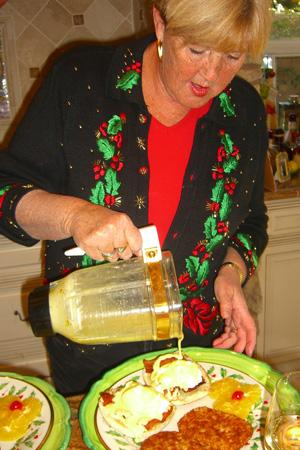person: (2, 2, 271, 389)
